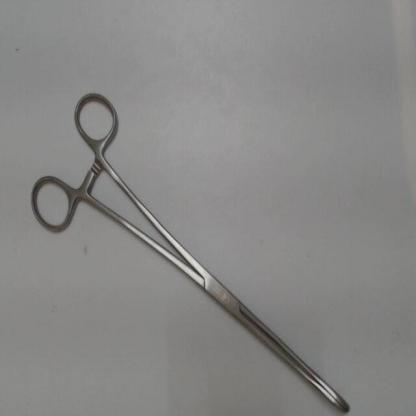Sponge Forceps: (23, 76, 357, 413)
